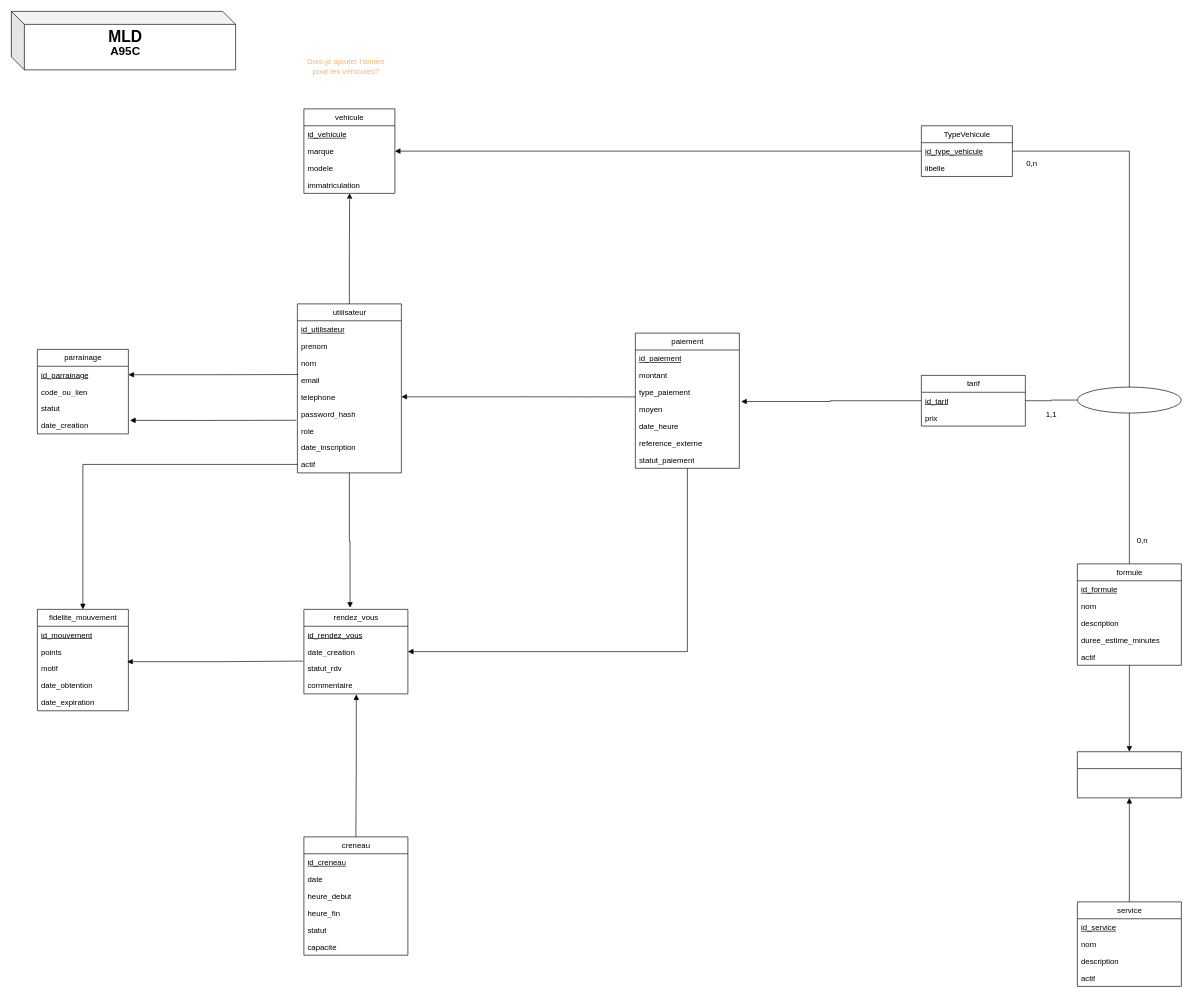
This 1193x1000 diagram has some shape labels left out. The centre of each missing label's shape, as x and y in pixels:
"dépendre" goes at (x=1129, y=399).
"formule_service" goes at (x=1129, y=774).
